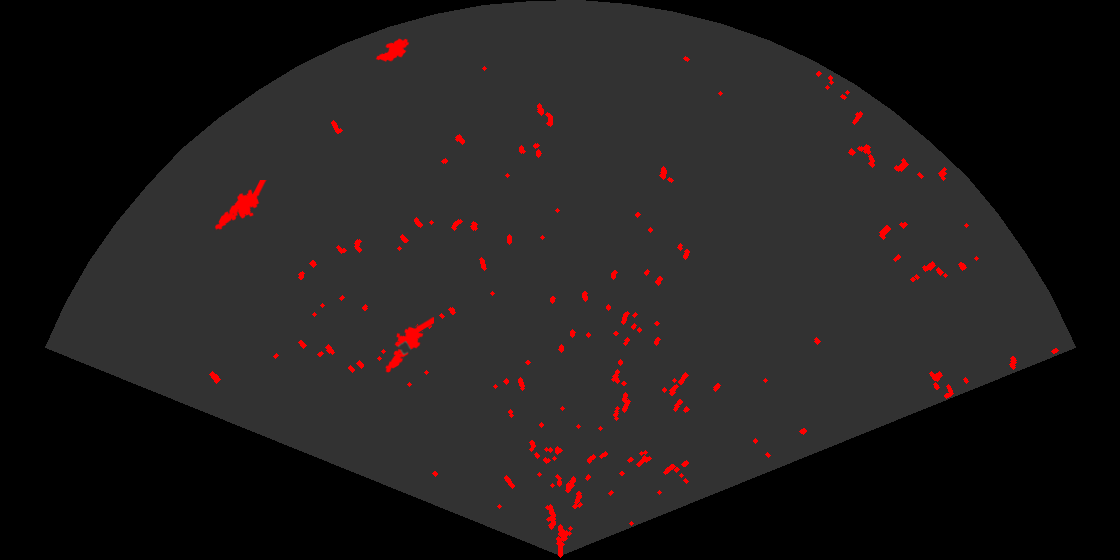AUV: (374, 37, 411, 63)
frogman: (384, 317, 434, 374), (213, 180, 267, 232)
